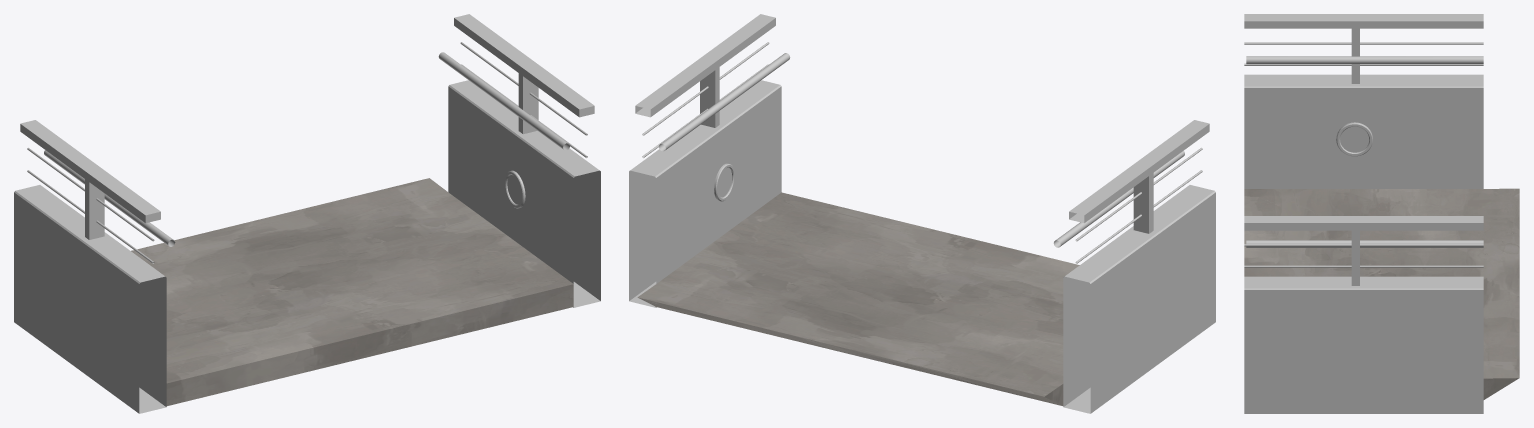
The model's file is MESH_StairsConnectorSingle.fbx.
3 renders of one model, left to right at view 1: azimuth 30°, elevation 25°; view 2: azimuth 150°, elevation 25°; view 3: azimuth 270°, elevation 25°, orthographic. The views are drawn at different scales.
Parts seen in each view (by area): view 1: ConcreteCubeSingle, ConcreteBaseShortL.001, ConcreteBaseShortR.001, HandleShortR.001, HandleShortL.001, LampsShortR.001; view 2: ConcreteCubeSingle, ConcreteBaseShortL.001, ConcreteBaseShortR.001, HandleShortR.001, HandleShortL.001, LampsShortR.001; view 3: ConcreteBaseShortR.001, ConcreteBaseShortL.001, ConcreteCubeSingle, HandleShortL.001, HandleShortR.001, LampsShortL.001.
Boxes of the visible parts, bbox=[...] form: ConcreteCubeSingle: bbox=[131, 178, 573, 405]; ConcreteBaseShortL.001: bbox=[14, 185, 166, 413]; ConcreteBaseShortR.001: bbox=[448, 80, 600, 307]; HandleShortR.001: bbox=[438, 14, 594, 158]; HandleShortL.001: bbox=[20, 120, 175, 263]; LampsShortR.001: bbox=[504, 170, 525, 208]; ConcreteCubeSingle: bbox=[637, 192, 1079, 405]; ConcreteBaseShortL.001: bbox=[1063, 185, 1215, 413]; ConcreteBaseShortR.001: bbox=[629, 80, 781, 307]; HandleShortR.001: bbox=[635, 14, 790, 158]; HandleShortL.001: bbox=[1053, 120, 1209, 263]; LampsShortR.001: bbox=[714, 163, 735, 201]; ConcreteBaseShortR.001: bbox=[1244, 276, 1483, 413]; ConcreteBaseShortL.001: bbox=[1244, 74, 1483, 188]; ConcreteCubeSingle: bbox=[1244, 188, 1519, 399]; HandleShortL.001: bbox=[1244, 14, 1483, 83]; HandleShortR.001: bbox=[1244, 216, 1483, 285]; LampsShortL.001: bbox=[1336, 122, 1372, 156].
Bounding box in the file's own units: 425 × 173 × 230.
